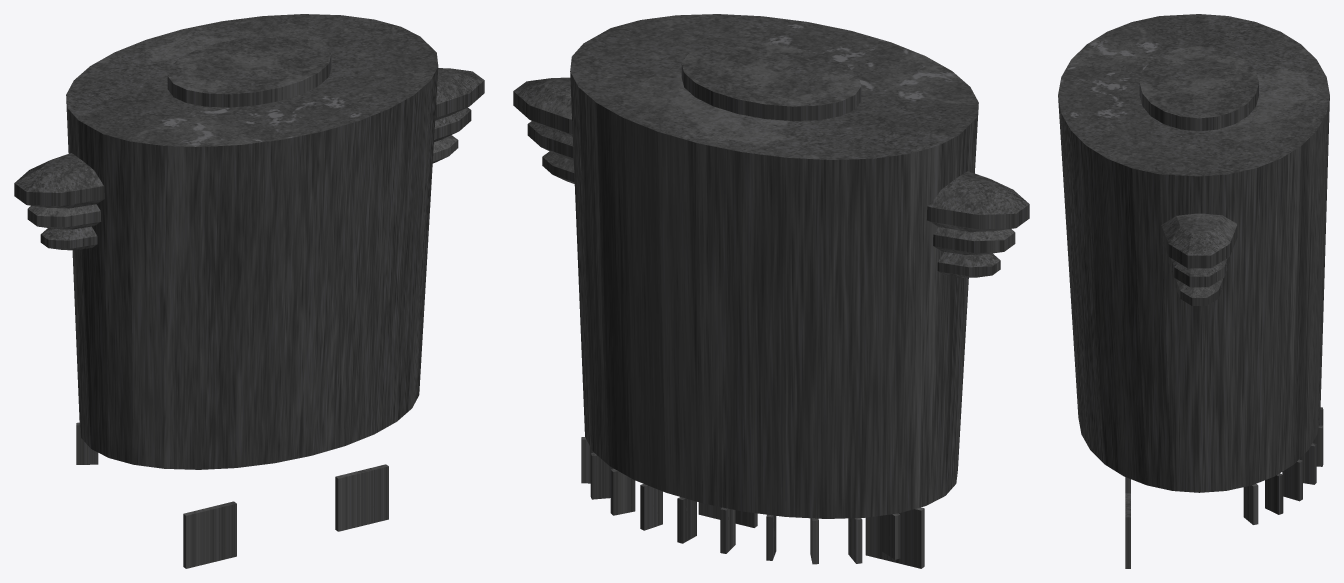
The model's file is full_plate.fbx.
3 renders of one model, left to right at view 1: azimuth 30°, elevation 25°; view 2: azimuth 150°, elevation 25°; view 3: azimuth 270°, elevation 25°, orthographic. The views are drawn at different scales.
Parts seen in each view (by area): view 1: full_plate; view 2: full_plate; view 3: full_plate.
Boxes of the visible parts, box(x1,y1,x2,y2) form: full_plate: box(14, 14, 484, 568); full_plate: box(513, 14, 1029, 568); full_plate: box(1058, 14, 1329, 568).
Size of the model in its own units: 0.7226 by 0.68 by 0.3822.
Materials: 1 (1 with a texture image).
